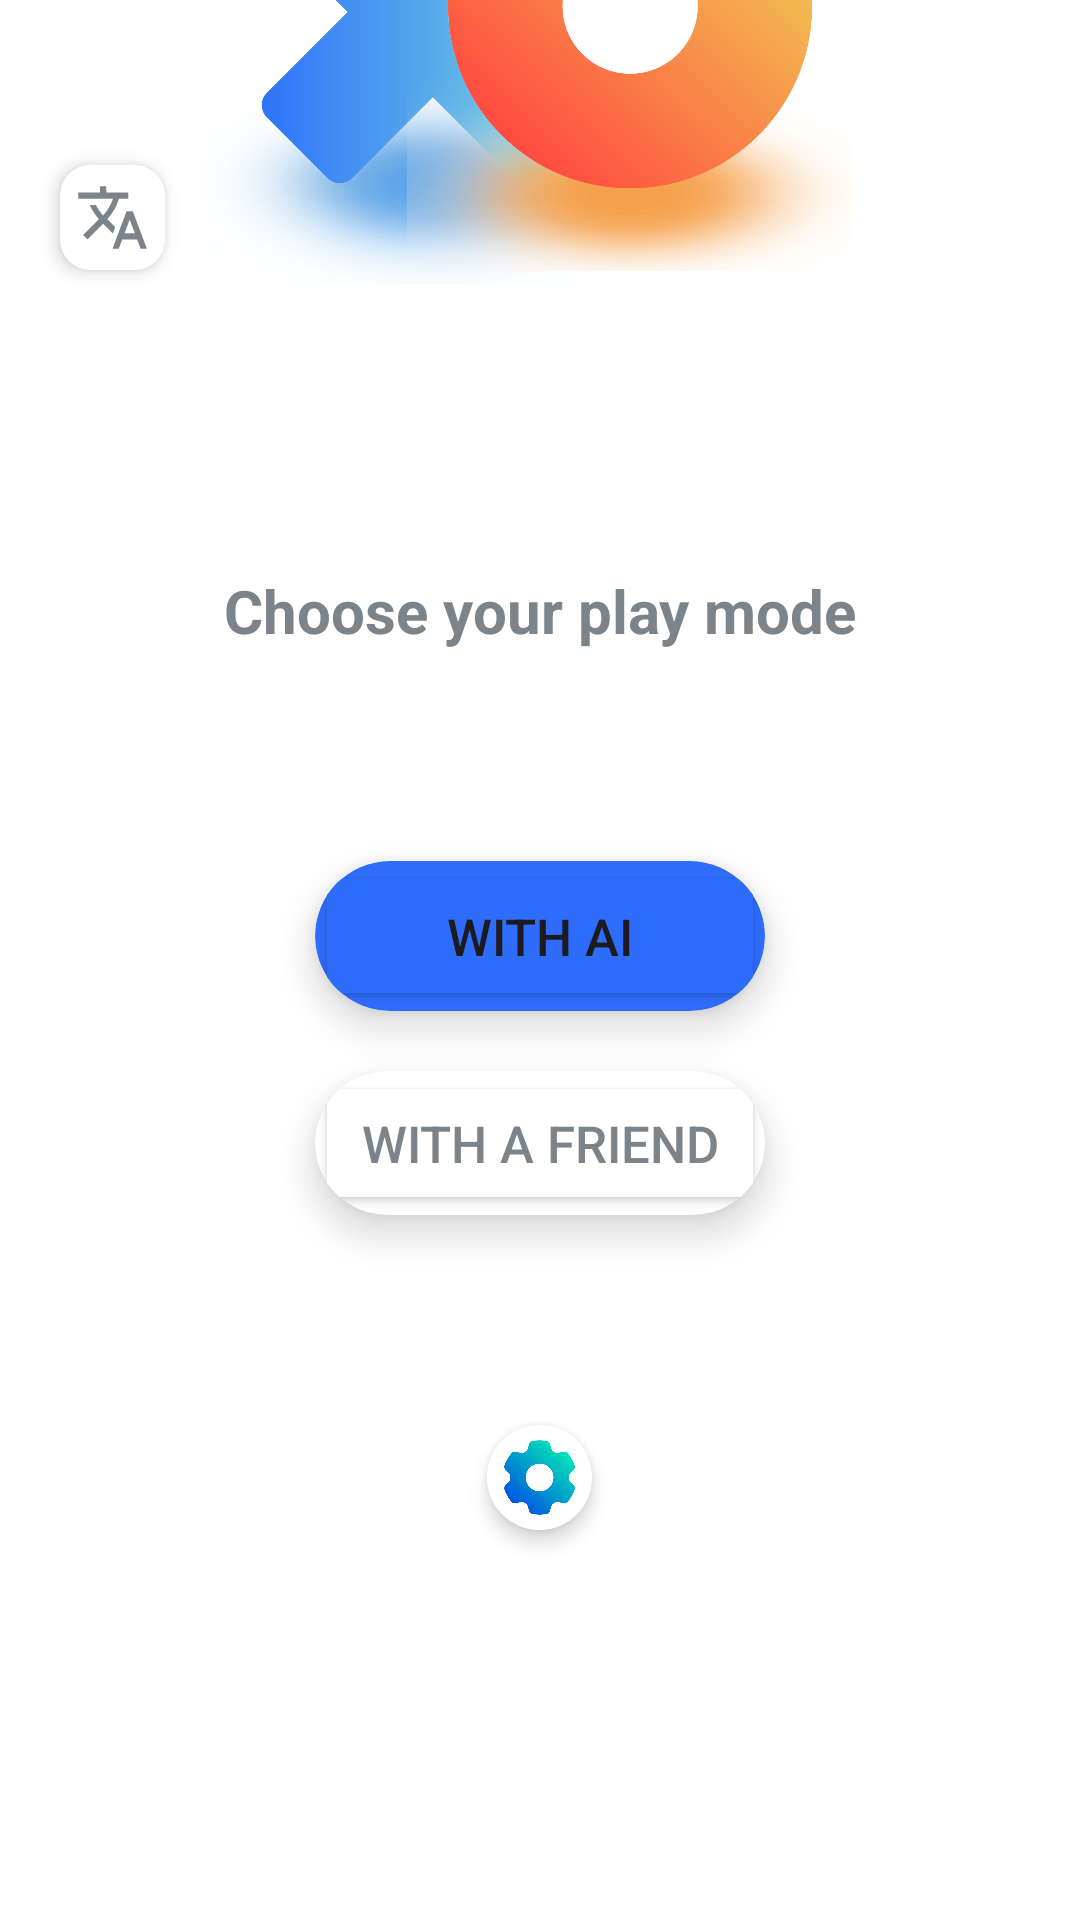

Icon bounding boxes for this 1080px×1920px phone screenshot, format (x1, y1, x2, y2):
setting: (504, 1440, 592, 1515)
translate: (78, 186, 147, 249)
